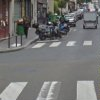crosswalk: (0, 78, 97, 100), (31, 40, 92, 49)
